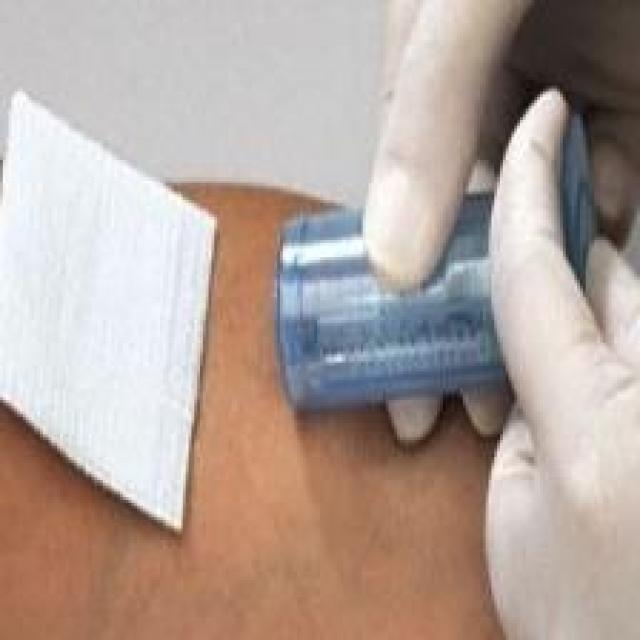syringe: (234, 135, 612, 433)
